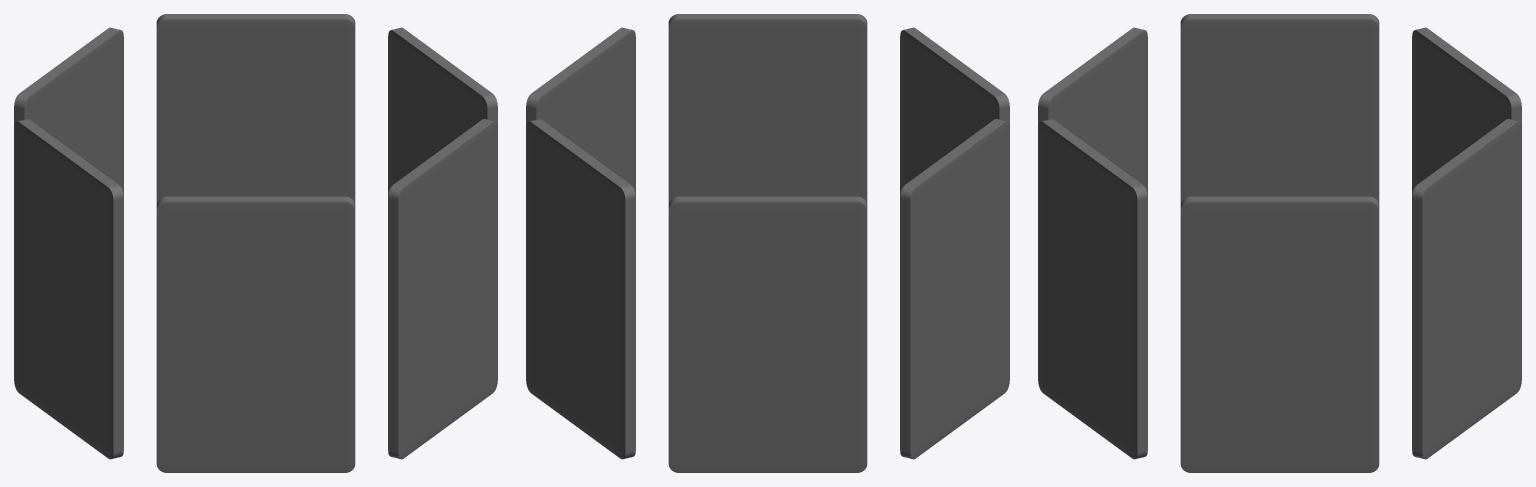
File: around.obj
The picture shows the model from 3 angles, left to right: view 1: azimuth 30°, elevation 25°; view 2: azimuth 150°, elevation 25°; view 3: azimuth 270°, elevation 25°; orthographic projection.
Parts seen in each view (by area): view 1: 004_Box_1, 001_Box_1, 003_Box_1, 005_Box_1, 000_Box_1, 002_Box_1; view 2: 002_Box_1, 005_Box_1, 001_Box_1, 003_Box_1, 000_Box_1, 004_Box_1; view 3: 000_Box_1, 003_Box_1, 001_Box_1, 005_Box_1, 002_Box_1, 004_Box_1.
Boxes of the visible parts, <box> form: 004_Box_1: <box>156,196,355,472</box>; 001_Box_1: <box>156,14,355,203</box>; 003_Box_1: <box>14,119,123,459</box>; 005_Box_1: <box>388,119,497,459</box>; 000_Box_1: <box>388,27,497,197</box>; 002_Box_1: <box>14,27,123,197</box>; 002_Box_1: <box>668,196,867,472</box>; 005_Box_1: <box>668,14,867,203</box>; 001_Box_1: <box>526,119,635,459</box>; 003_Box_1: <box>900,119,1009,459</box>; 000_Box_1: <box>526,27,635,197</box>; 004_Box_1: <box>900,27,1009,197</box>; 000_Box_1: <box>1180,196,1379,472</box>; 003_Box_1: <box>1180,14,1379,203</box>; 001_Box_1: <box>1412,119,1521,459</box>; 005_Box_1: <box>1038,119,1147,459</box>; 002_Box_1: <box>1412,27,1521,197</box>; 004_Box_1: <box>1038,27,1147,197</box>.
Bounding box in the file's own units: 165 × 111 × 179.
Materials: 1 (1 with a texture image).
